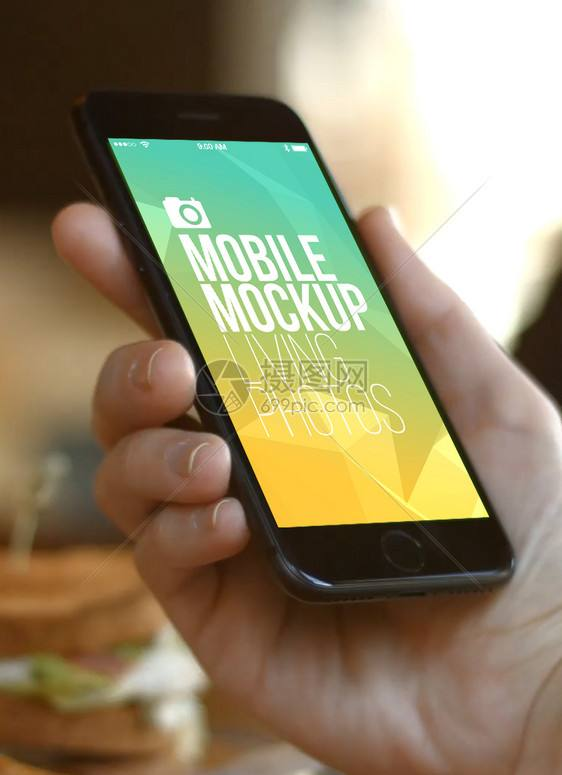phone: (39, 91, 557, 735)
